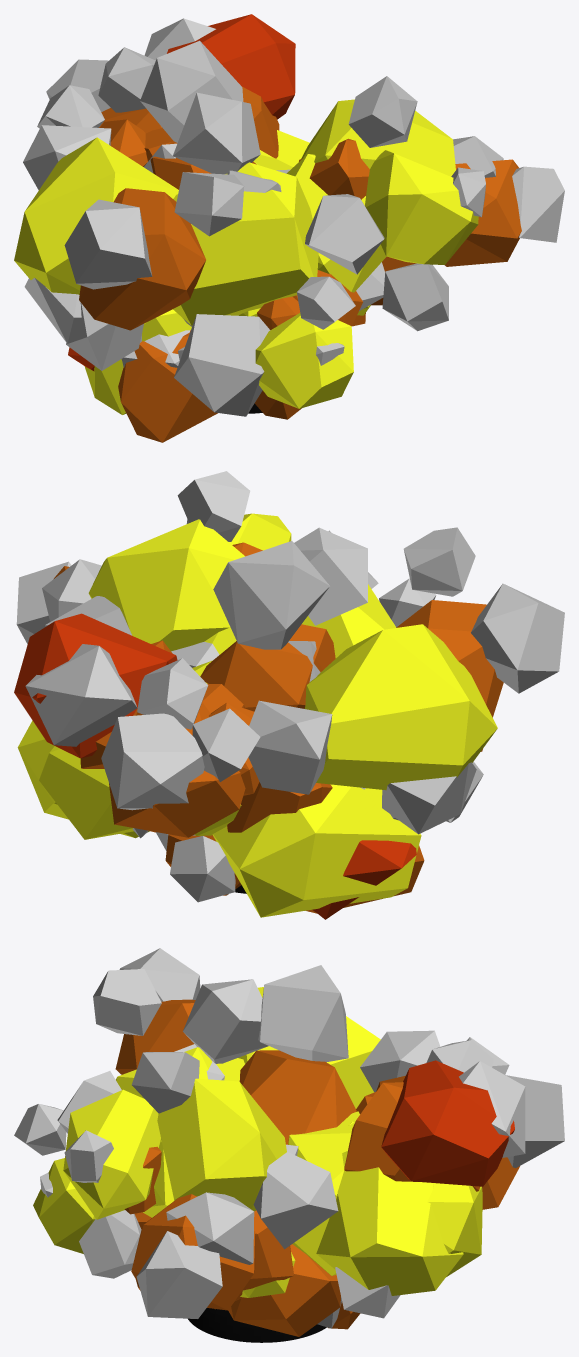
File: Explosion0011.obj
3 views of the same model, one above another, from view 1: azimuth 30°, elevation 25°; view 2: azimuth 150°, elevation 25°; view 3: azimuth 270°, elevation 25° (orthographic). The views are drawn at different scales.
Parts seen in each view (by area): view 1: Cube_Material, Cube.002_Material.003, Cube.001_Material.002, Cube.003_Material.004; view 2: Cube_Material, Cube.002_Material.003, Cube.001_Material.002, Cube.003_Material.004; view 3: Cube_Material, Cube.002_Material.003, Cube.001_Material.002, Cube.003_Material.004, Circle_Material.001.
Part boxes in pixels (box(x1,y1,x2,y2)): Cube_Material: box(23, 18, 564, 416); Cube.002_Material.003: box(14, 99, 478, 414); Cube.001_Material.002: box(79, 86, 521, 442); Cube.003_Material.004: box(68, 14, 295, 371); Cube_Material: box(16, 471, 564, 902); Cube.002_Material.003: box(17, 513, 497, 917); Cube.001_Material.002: box(54, 542, 503, 913); Cube.003_Material.004: box(14, 613, 416, 919); Cube_Material: box(14, 948, 564, 1328); Cube.002_Material.003: box(33, 987, 482, 1297); Cube.001_Material.002: box(115, 999, 519, 1336); Cube.003_Material.004: box(381, 1060, 514, 1186); Circle_Material.001: box(188, 1308, 326, 1342).
Bounding box in the file's own units: 7.43 × 4.8 × 7.14.
